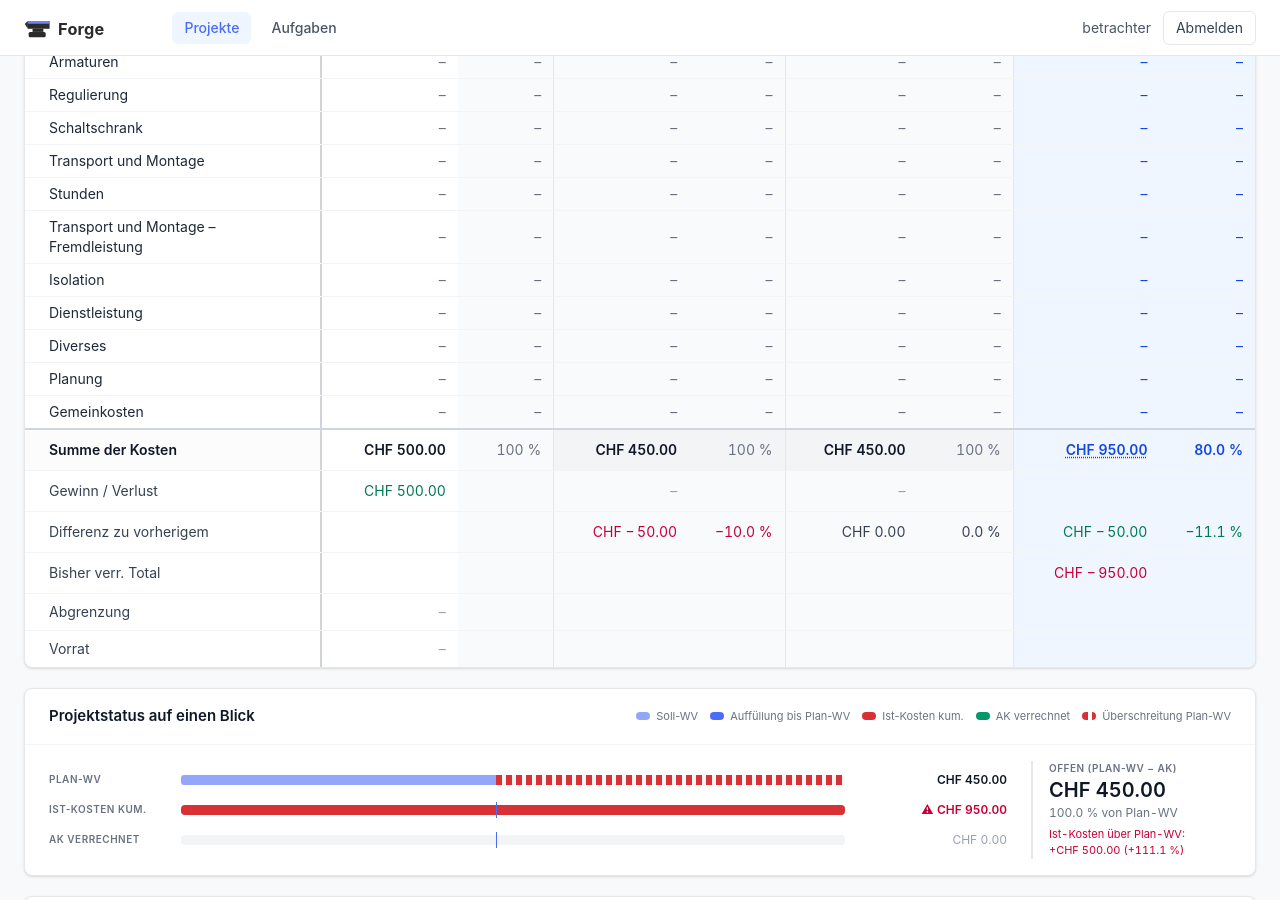
Test: ProjektDetailPage – Rechnungen-Pop-up › öffnet alle Rechnungen über die Summenzeile
(page scrolled)
Step 1. Click the button "CHF 950.00" → (1106, 450), box [1066,440,1147,460]
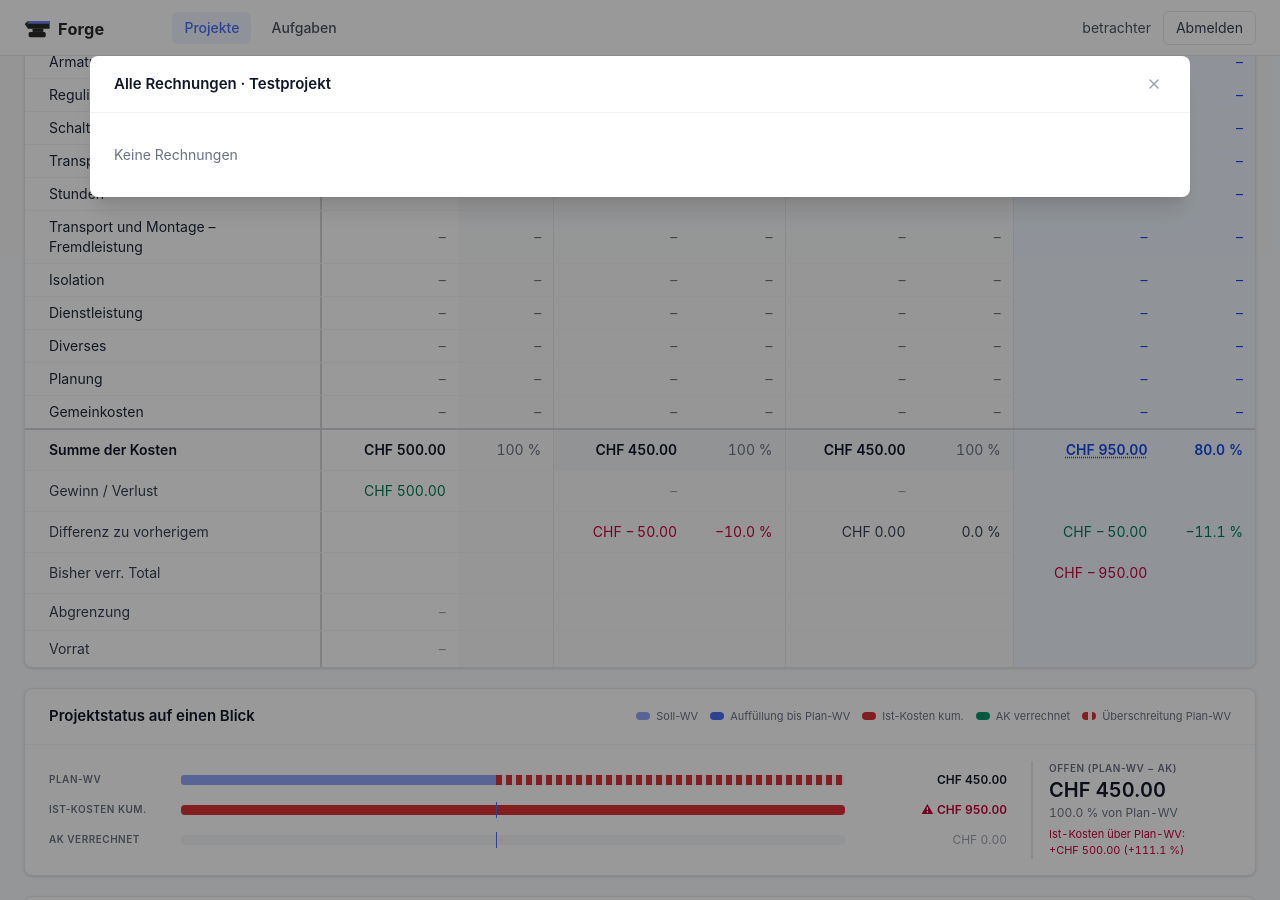
Expected: the heading "Alle Rechnungen · Testprojekt" is shown, [114,73,331,95]
